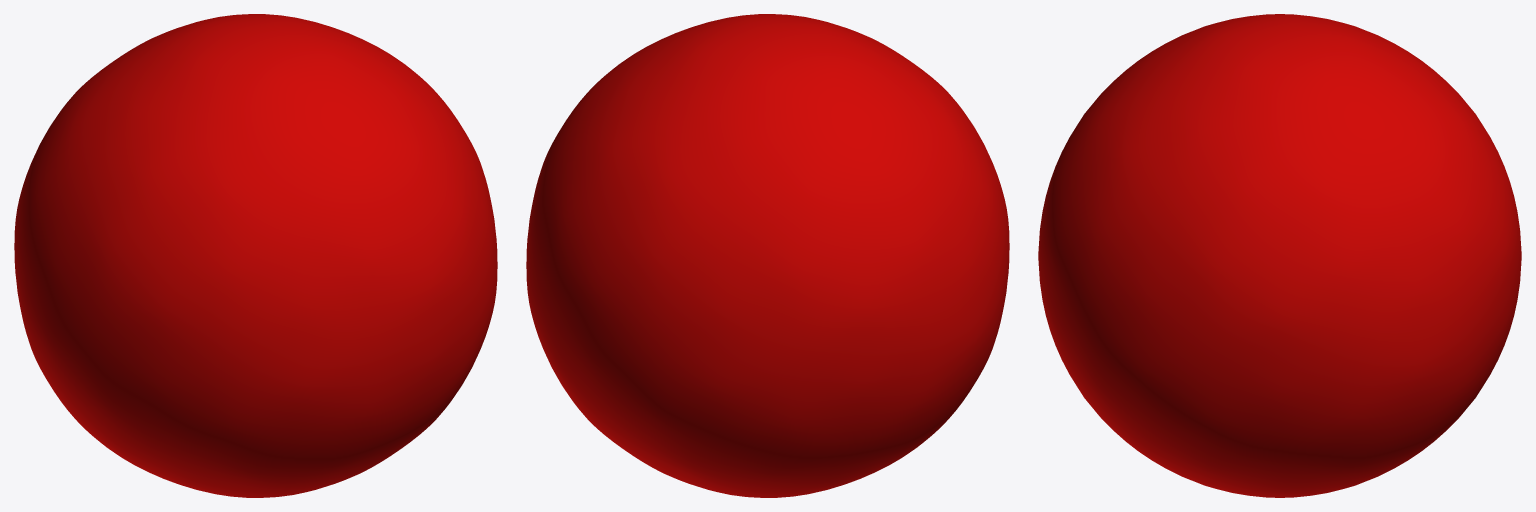
3 renders of one model, left to right at view 1: azimuth 30°, elevation 25°; view 2: azimuth 150°, elevation 25°; view 3: azimuth 270°, elevation 25°, orthographic.
Visible parts, largest first — view 1: Icosphere; view 2: Icosphere; view 3: Icosphere.
Part boxes in pixels (<box>): Icosphere: <box>14,14,497,497</box>; Icosphere: <box>526,14,1009,497</box>; Icosphere: <box>1038,14,1521,497</box>.
Bounding box in the file's own units: 1.85 × 1.86 × 1.85.
